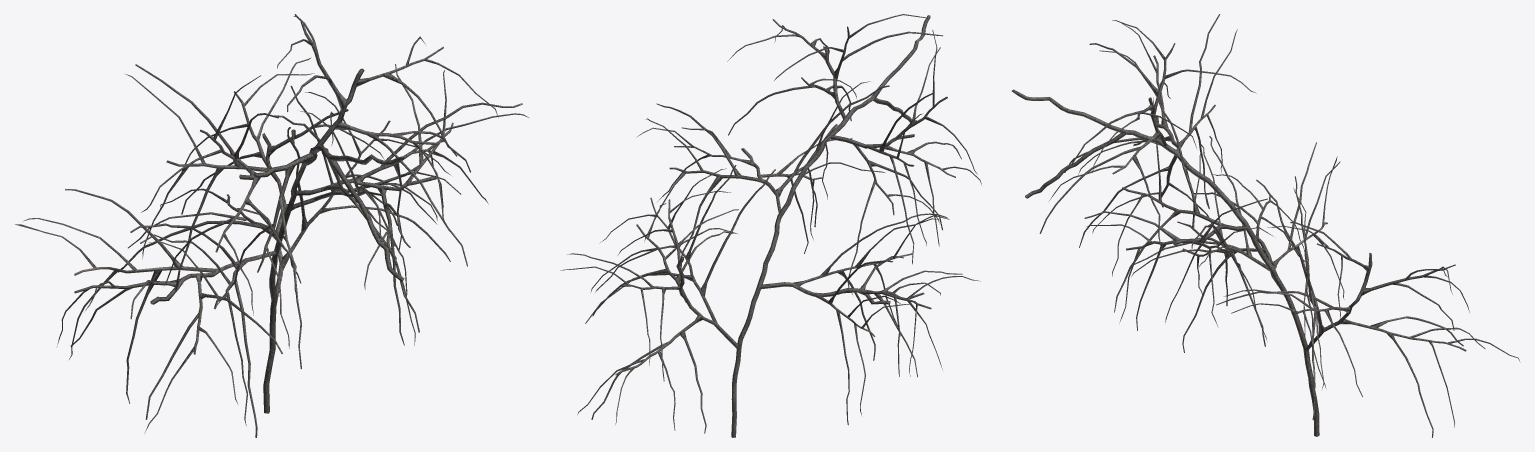
Rendered from sm10_018_horrorbranch01a.fbx.
3 renders of one model, left to right at view 1: azimuth 30°, elevation 25°; view 2: azimuth 150°, elevation 25°; view 3: azimuth 270°, elevation 25°, orthographic. The views are drawn at different scales.
Visible parts, largest first — view 1: LOD_1_Group_0_Sub_1__sm10_018_horrorBranch01A_A_Mat; view 2: LOD_1_Group_0_Sub_1__sm10_018_horrorBranch01A_A_Mat; view 3: LOD_1_Group_0_Sub_1__sm10_018_horrorBranch01A_A_Mat.
Boxes of the visible parts, left/top/right/bottom form: LOD_1_Group_0_Sub_1__sm10_018_horrorBranch01A_A_Mat: left=15, top=14, right=528, bottom=437; LOD_1_Group_0_Sub_1__sm10_018_horrorBranch01A_A_Mat: left=560, top=14, right=981, bottom=437; LOD_1_Group_0_Sub_1__sm10_018_horrorBranch01A_A_Mat: left=1011, top=14, right=1520, bottom=437.
Size of the model in its own units: 13.77 by 14.23 by 17.55.
